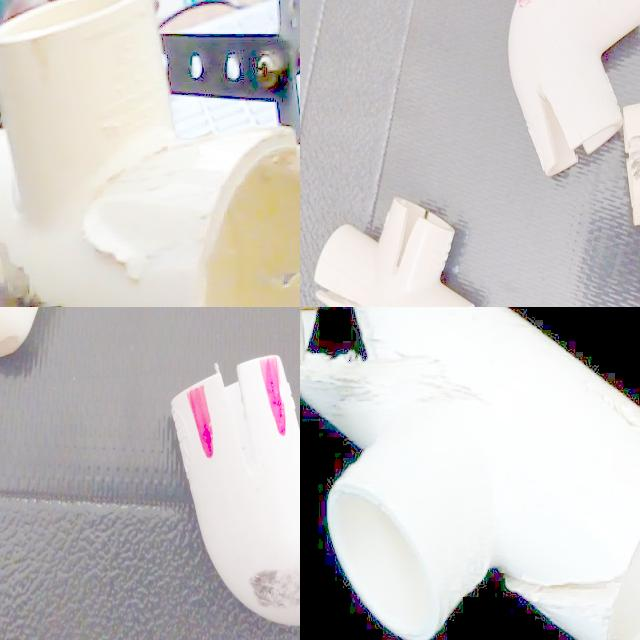Defective: (300, 307, 475, 437), (495, 541, 632, 629), (572, 358, 640, 529), (83, 201, 175, 281), (5, 558, 94, 602), (101, 99, 161, 157), (3, 466, 63, 515), (337, 150, 372, 229), (408, 137, 463, 182), (265, 143, 300, 185), (388, 42, 412, 96), (259, 265, 300, 290)
L Joint: (0, 438, 82, 640)
T Joint: (300, 307, 640, 640), (0, 0, 300, 307), (329, 28, 472, 252)
